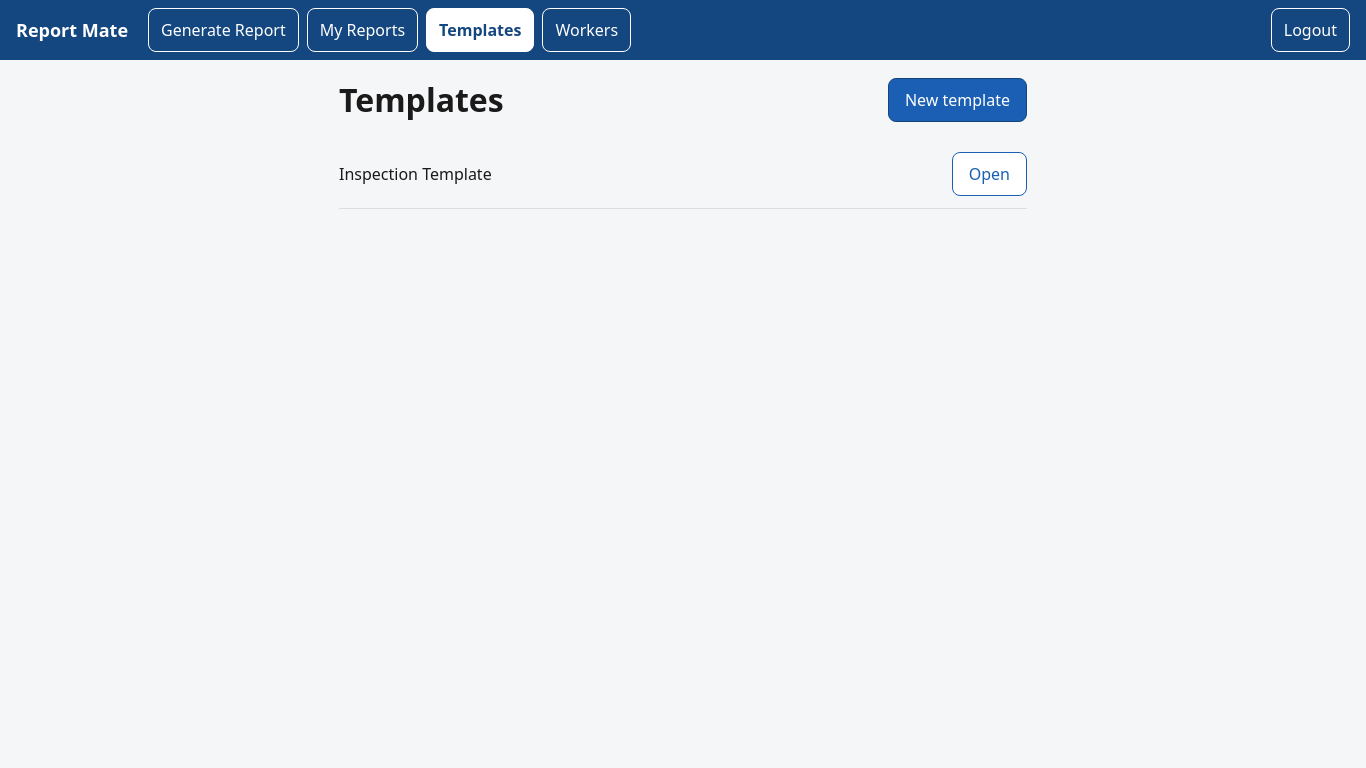
application routing › opens a listed template and reuses the record already loaded by the list
This screenshot has width=1366, height=768.
Click the button "Open". click: [989, 174]
box: [952,152,1027,196]
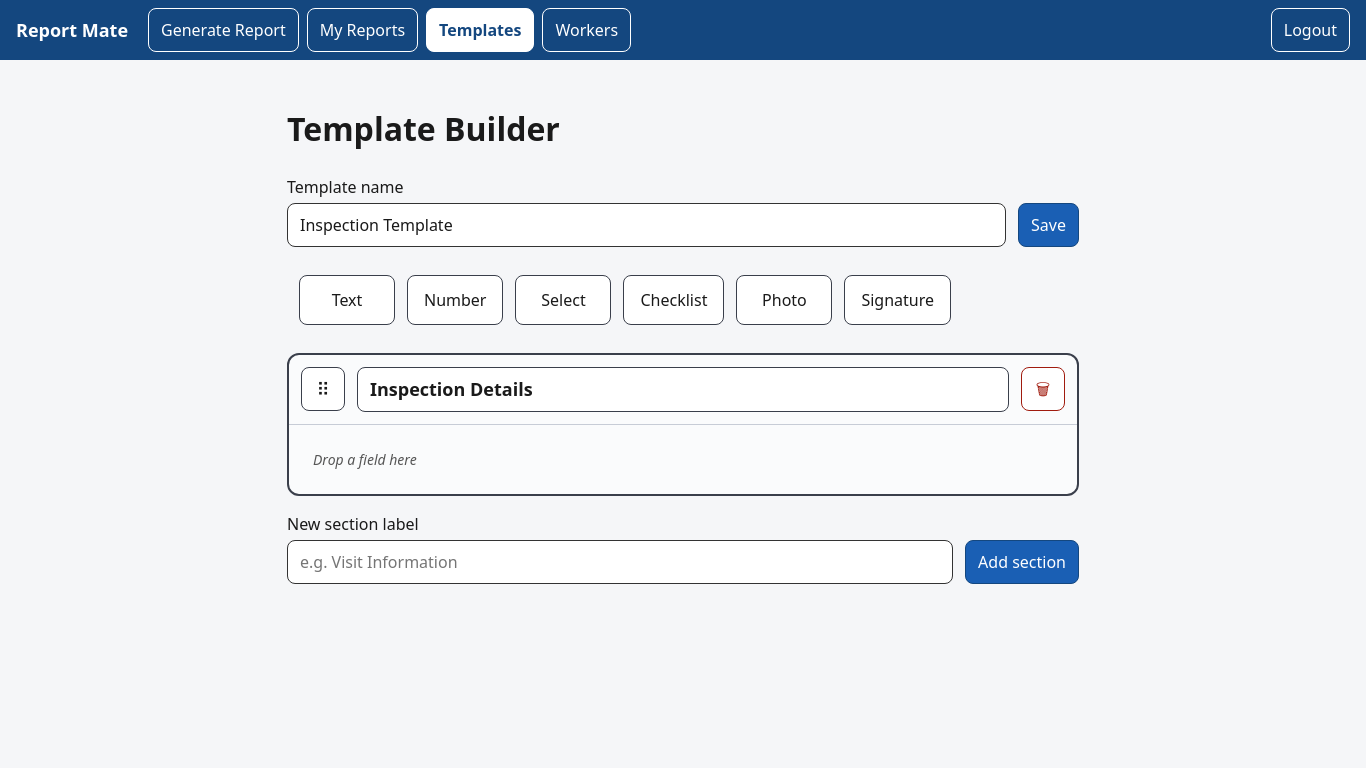
Result: the field showing "Inspection Template" is shown at [287,203,1006,247]
